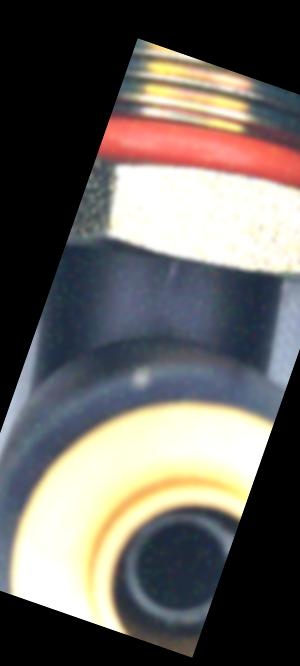joint line: (161, 317, 183, 340)
white mark: (155, 255, 181, 308)
